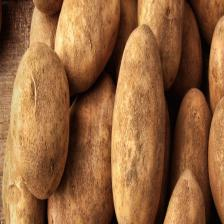Diseased-fungal potato: (108, 13, 167, 224), (10, 38, 72, 204), (172, 83, 218, 224)
